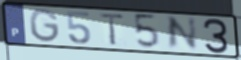3: (201, 16, 230, 55)
5: (132, 12, 162, 51), (66, 10, 93, 46)
G: (28, 7, 62, 44)
N: (166, 15, 200, 52)
T: (98, 12, 127, 47)
